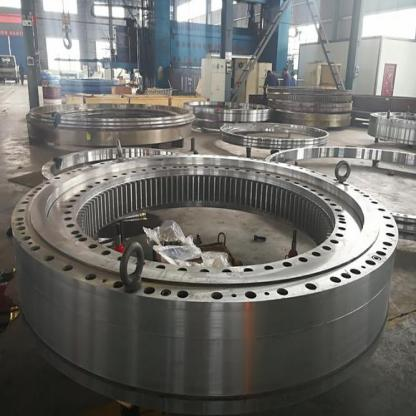FOD: (8, 151, 402, 407)
